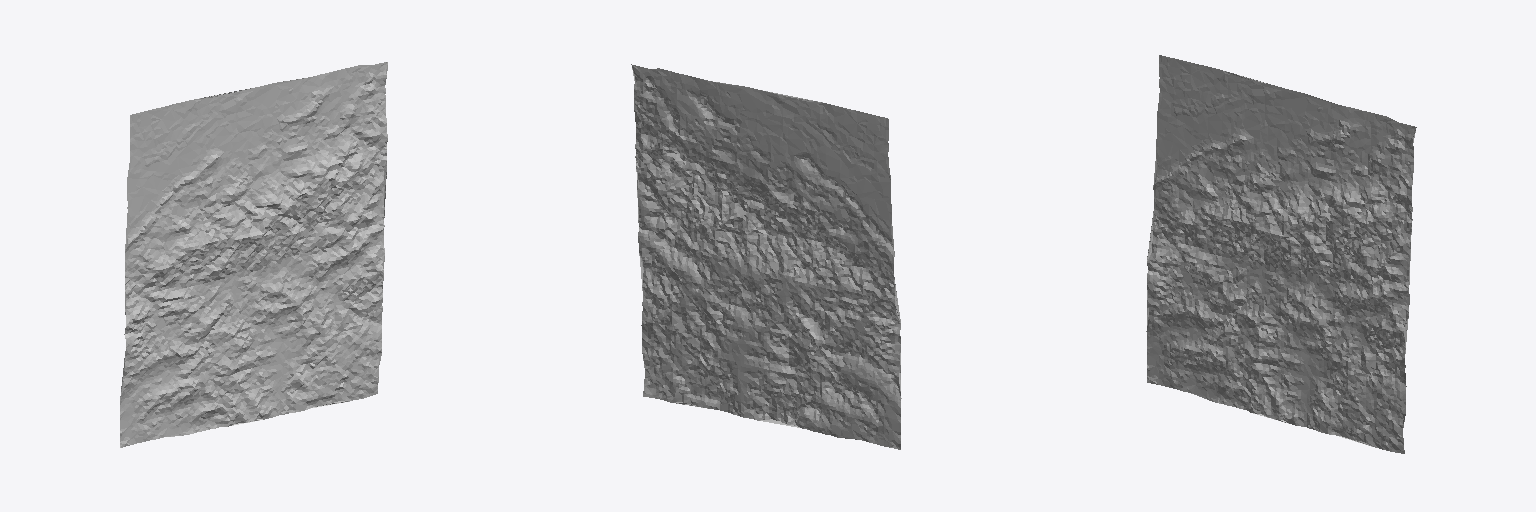
Rendered from arcknox.obj.
The picture shows the model from 3 angles: view 1: azimuth 30°, elevation 25°; view 2: azimuth 150°, elevation 25°; view 3: azimuth 330°, elevation 25°; orthographic projection.
Size of the model in its own units: 94000 by 113000 by 3278.